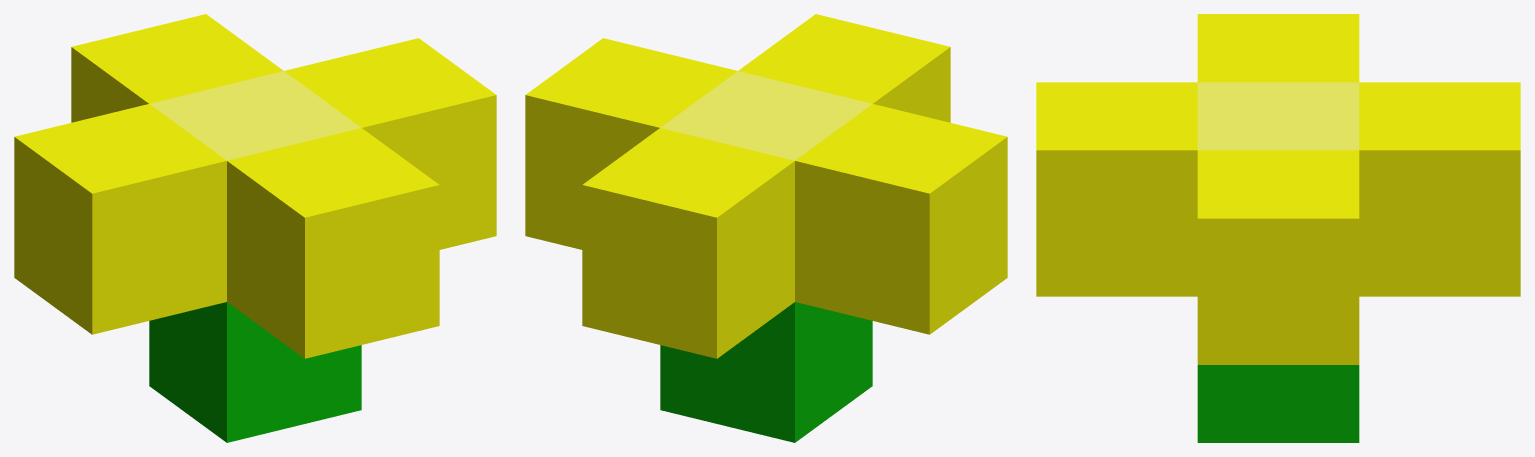
Rendered from yellowFlower.obj.
3 views of the same model, side by side, from view 1: azimuth 30°, elevation 25°; view 2: azimuth 150°, elevation 25°; view 3: azimuth 270°, elevation 25° (orthographic). The views are drawn at different scales.
Size of the model in its own units: 3 by 2 by 3.
1 material, 1 textured.
